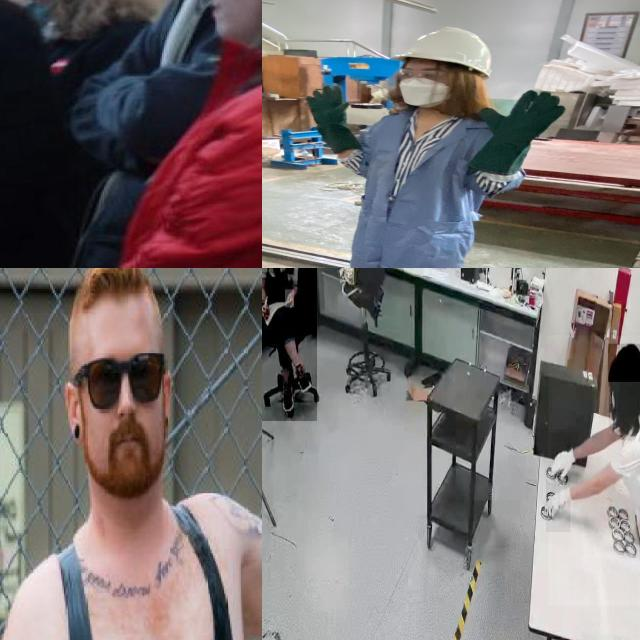face_mask: (394, 68, 456, 109)
face_nomask: (72, 347, 170, 472), (200, 0, 262, 29)
glasses: (67, 338, 169, 408), (393, 67, 457, 84)
hand_glove: (473, 88, 566, 140), (299, 82, 360, 124), (549, 433, 578, 484), (546, 476, 571, 533)
hand_noglove: (285, 290, 295, 308), (262, 299, 269, 319)
head_helmet: (391, 27, 498, 76)
head_nohelmet: (62, 268, 171, 337), (608, 343, 640, 382)
person: (2, 268, 262, 640), (289, 26, 572, 268), (548, 335, 640, 606), (0, 0, 77, 268), (262, 268, 317, 421)
shoes: (278, 378, 298, 413), (294, 362, 312, 396)
